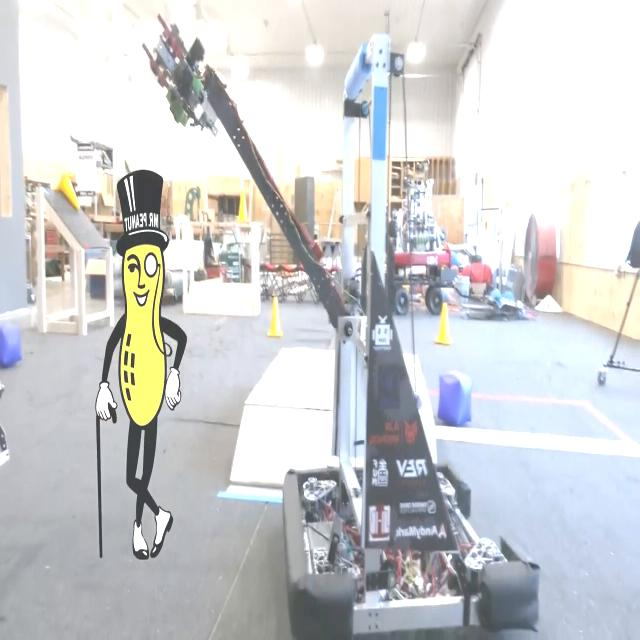frc_cone: (50, 156, 86, 220), (267, 293, 284, 350), (232, 182, 252, 230), (434, 301, 453, 350)
frc_cube: (437, 372, 477, 427), (0, 314, 20, 372)
